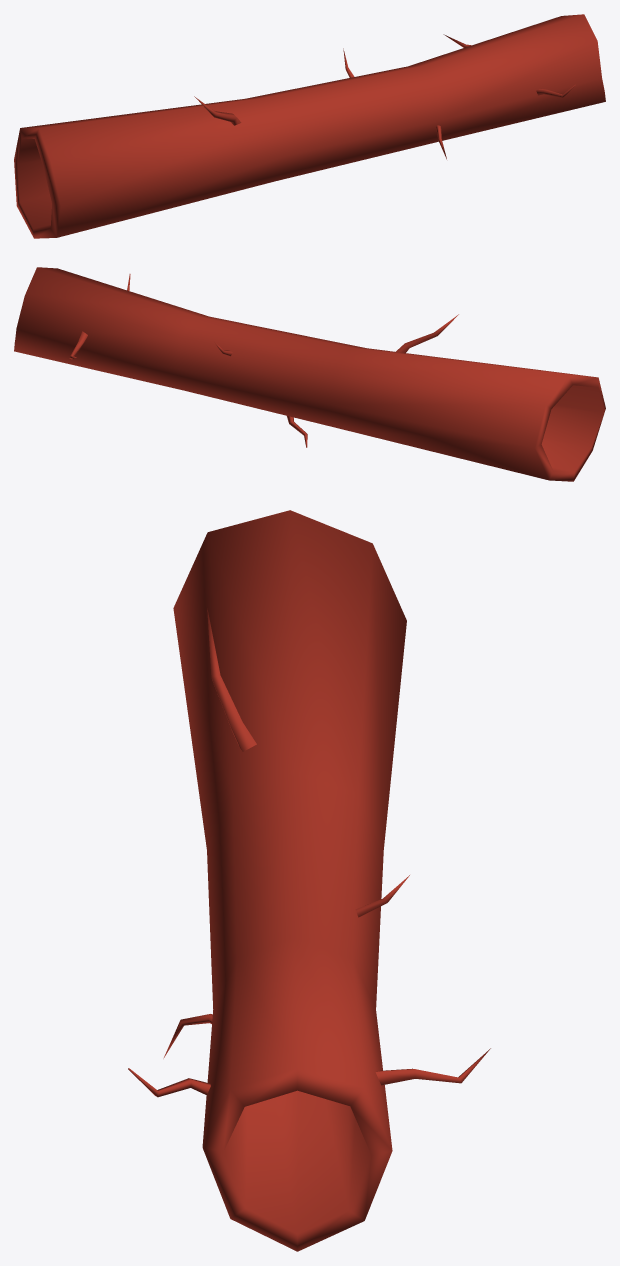
Rendered from TreeTrunk.fbx.
3 views of the same model, one above another, from view 1: azimuth 30°, elevation 25°; view 2: azimuth 150°, elevation 25°; view 3: azimuth 270°, elevation 25° (orthographic). The views are drawn at different scales.
Visible parts, largest first — view 1: Treetrunk_LOD0; view 2: Treetrunk_LOD0; view 3: Treetrunk_LOD0.
Boxes of the visible parts, left/top/right/bottom form: Treetrunk_LOD0: left=14, top=14, right=605, bottom=238; Treetrunk_LOD0: left=14, top=267, right=605, bottom=481; Treetrunk_LOD0: left=128, top=510, right=490, bottom=1251.
Size of what is drawn, in the model's own units: 5.05 by 1.14 by 1.43.
